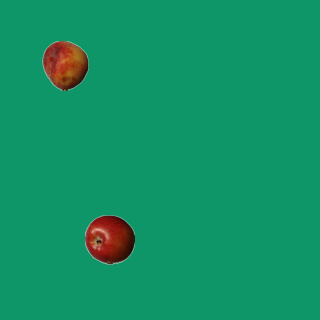Apple Braeburn: (84, 214, 134, 264)
Peach: (40, 40, 90, 90)
